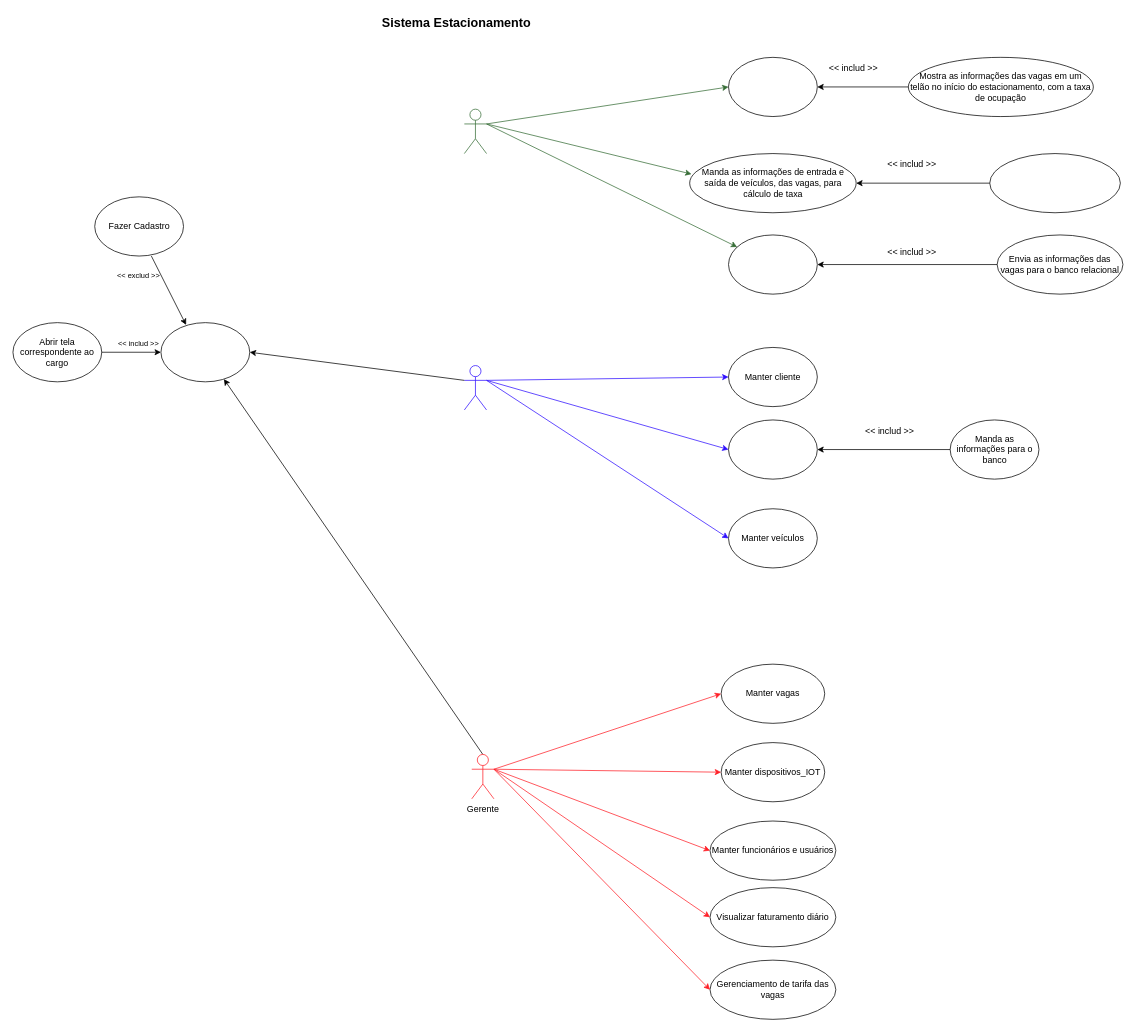
Some shapes in this 1136 by 1032 pixel diagram are drawn without their labels. The centre of each missing label's shape, as x and y in pixels:
"Cliente" belongs at point (475, 387).
"Dispositivo_IOT" belongs at point (475, 131).
"Faz processo de liberar, reservar e ocupar vaga" belongs at point (772, 264).
"Fazer Login" belongs at point (205, 352).
"Procedure calcula o valor da taxa a ser paga pelo veóvulo" belongs at point (1054, 183).
"Realiza reserva" belongs at point (772, 449).
"Verifica disponibilidade de vagas" belongs at point (772, 87).
